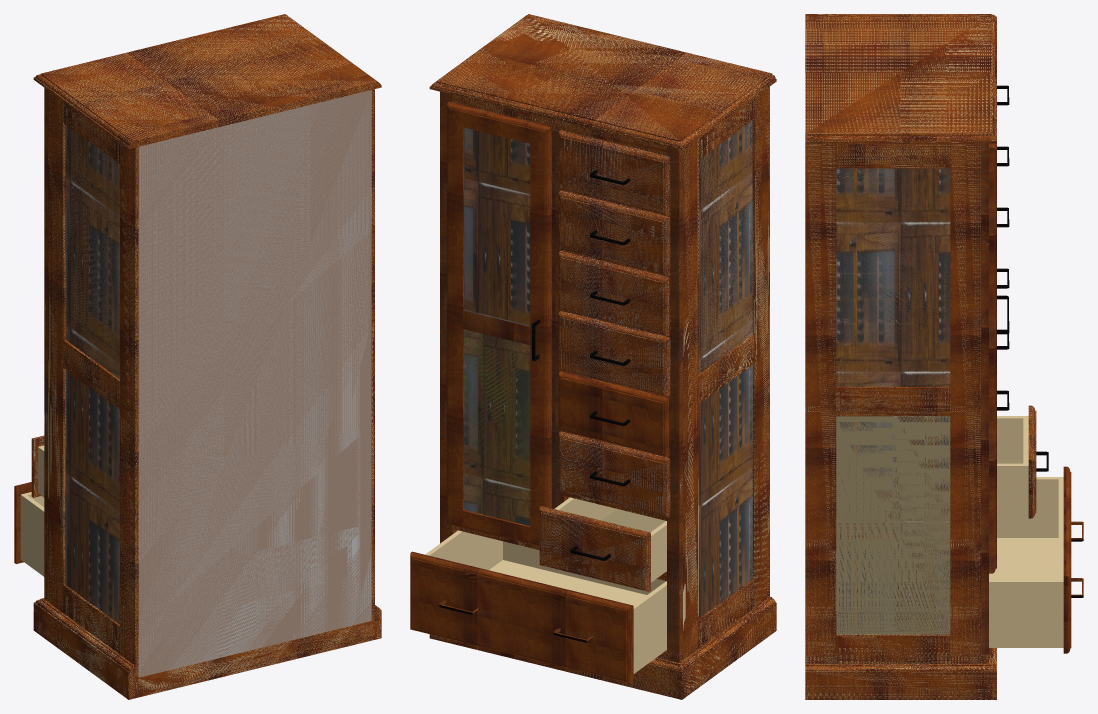
3 views of the same model, side by side, from view 1: azimuth 30°, elevation 25°; view 2: azimuth 150°, elevation 25°; view 3: azimuth 270°, elevation 25° (orthographic).
Parts seen in each view (by area): view 1: mesh235_mesh235-geometry, mesh102_mesh102-geometry, mesh237_mesh237-geometry, mesh260_mesh260-geometry, mesh100_mesh100-geometry, mesh261_mesh261-geometry, mesh101_mesh101-geometry, mesh62_mesh62-geometry, mesh3_mesh3-geometry, mesh63_mesh63-geometry, mesh12_mesh12-geometry, mesh13_mesh13-geometry (+3 smaller); view 2: mesh102_mesh102-geometry, mesh254_mesh254-geometry, mesh251_mesh251-geometry, mesh259_mesh259-geometry, mesh258_mesh258-geometry, mesh237_mesh237-geometry, mesh260_mesh260-geometry, mesh100_mesh100-geometry, mesh261_mesh261-geometry, mesh63_mesh63-geometry, mesh194_mesh194-geometry, mesh130_mesh130-geometry (+20 smaller); view 3: mesh5_mesh5-geometry, mesh8_mesh8-geometry, mesh102_mesh102-geometry, mesh1_mesh1-geometry, mesh3_mesh3-geometry, mesh62_mesh62-geometry, mesh242_mesh242-geometry, mesh64_mesh64-geometry, mesh4_mesh4-geometry, mesh7_mesh7-geometry, mesh254_mesh254-geometry, mesh2_mesh2-geometry (+7 smaller).
Part boxes in pixels (x1,y1,x2,y2): mesh235_mesh235-geometry: (138,90,371,677); mesh102_mesh102-geometry: (33,14,381,148); mesh237_mesh237-geometry: (65,370,119,624); mesh260_mesh260-geometry: (65,125,119,378); mesh100_mesh100-geometry: (120,143,138,674); mesh261_mesh261-geometry: (48,90,65,612); mesh101_mesh101-geometry: (135,616,374,698); mesh62_mesh62-geometry: (33,598,381,699); mesh3_mesh3-geometry: (371,89,374,617); mesh63_mesh63-geometry: (44,88,47,592); mesh12_mesh12-geometry: (63,585,119,654); mesh13_mesh13-geometry: (63,339,119,408); mesh102_mesh102-geometry: (429,14,776,150); mesh254_mesh254-geometry: (447,101,551,545); mesh251_mesh251-geometry: (410,551,633,683); mesh259_mesh259-geometry: (464,127,530,325); mesh258_mesh258-geometry: (464,329,530,525); mesh237_mesh237-geometry: (698,365,752,618); mesh260_mesh260-geometry: (698,120,752,373); mesh100_mesh100-geometry: (752,86,769,607); mesh261_mesh261-geometry: (683,139,698,659); mesh63_mesh63-geometry: (667,147,682,653); mesh194_mesh194-geometry: (559,371,670,456); mesh130_mesh130-geometry: (559,190,670,276); mesh5_mesh5-geometry: (836,416,950,634); mesh8_mesh8-geometry: (836,168,950,386); mesh102_mesh102-geometry: (805,14,996,143); mesh1_mesh1-geometry: (950,143,981,663); mesh3_mesh3-geometry: (805,143,836,663); mesh62_mesh62-geometry: (805,648,996,699); mesh242_mesh242-geometry: (989,580,1063,647); mesh64_mesh64-geometry: (981,143,988,654); mesh4_mesh4-geometry: (836,634,950,663); mesh7_mesh7-geometry: (836,387,950,416); mesh254_mesh254-geometry: (989,143,996,573); mesh2_mesh2-geometry: (836,143,950,168).
Bounding box in the file's own units: 0.3977 × 0.8373 × 0.3752.
